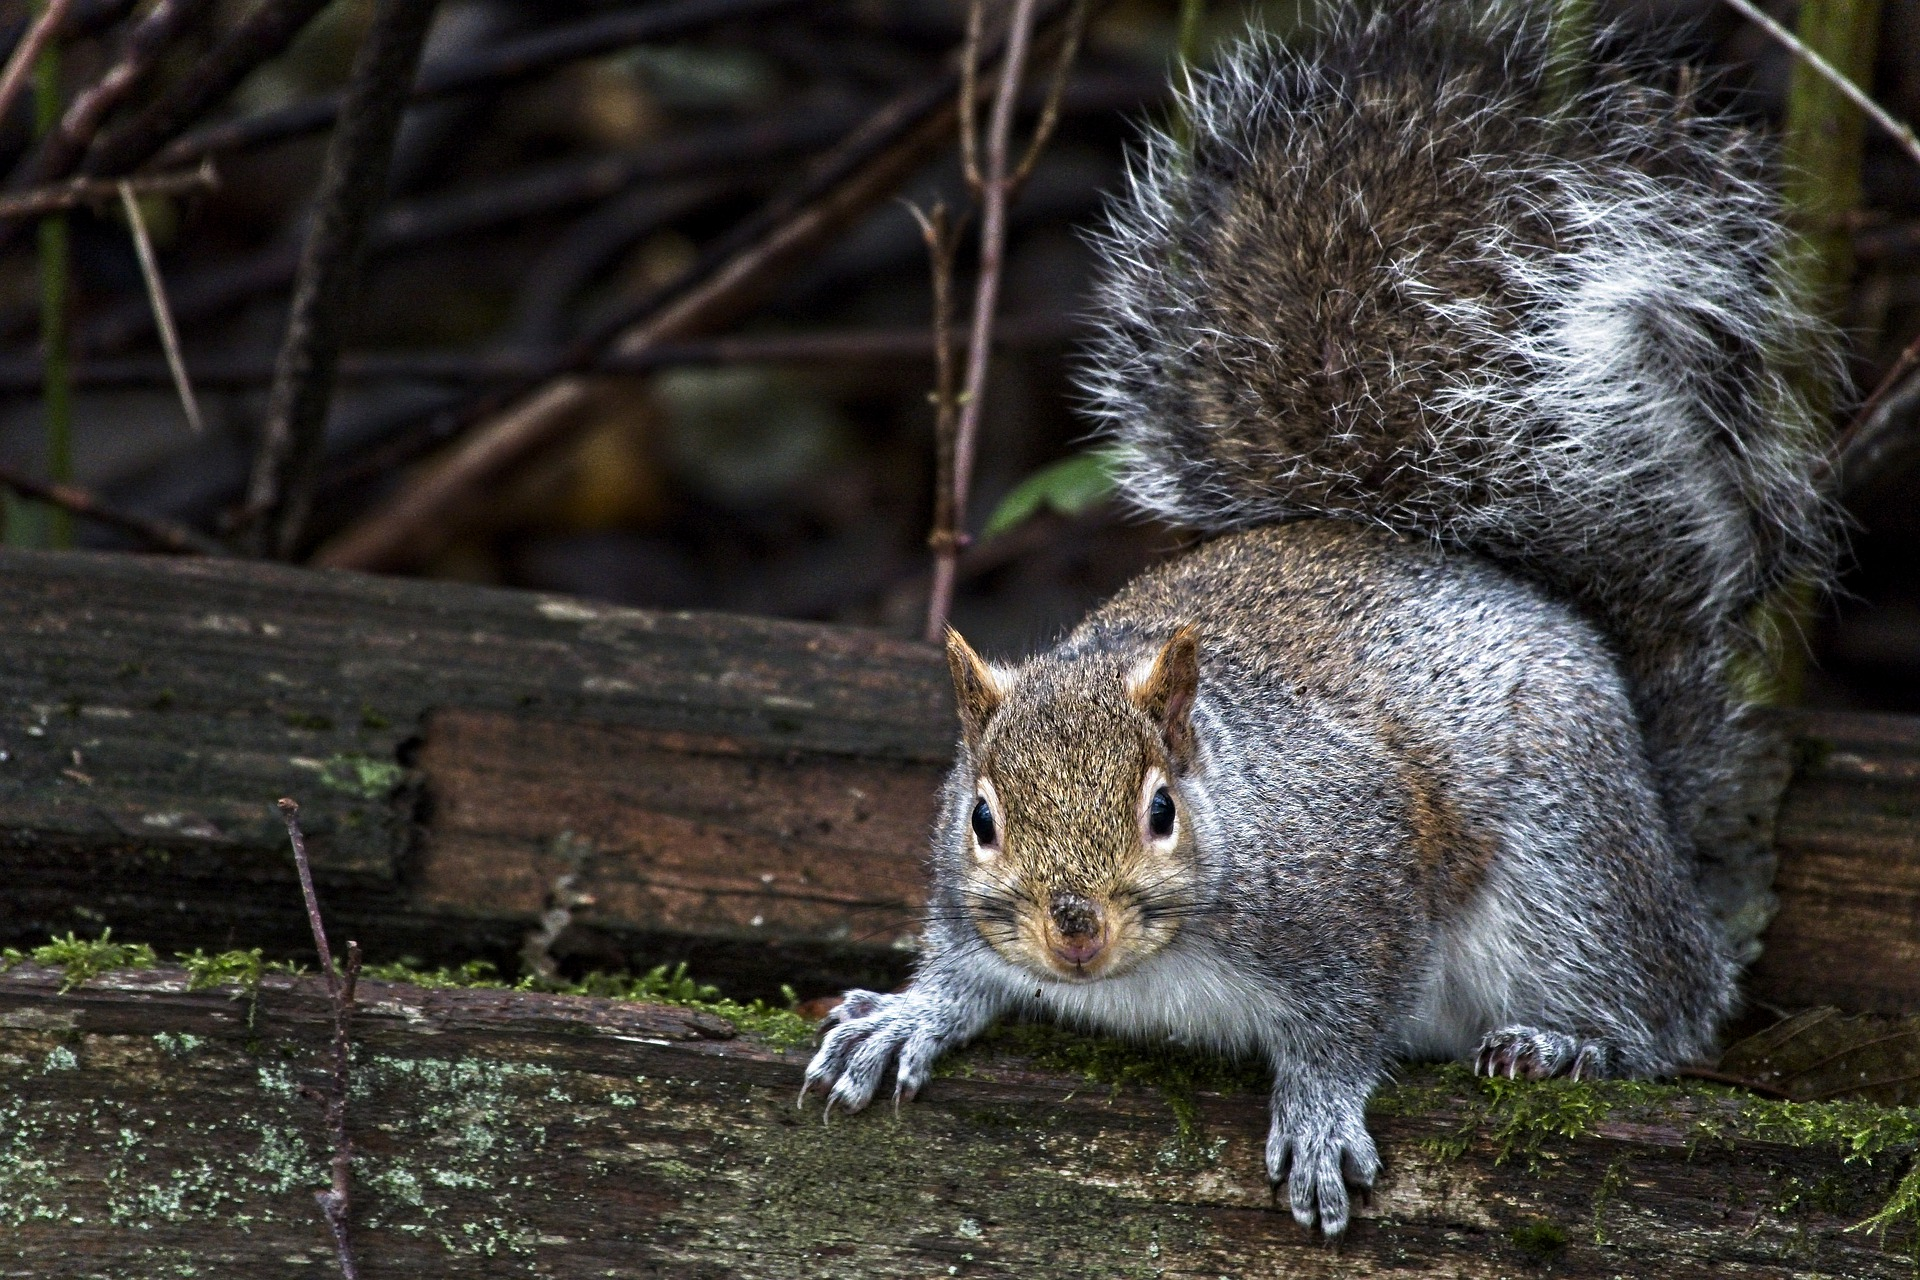squirrel: (799, 9, 1797, 1234)
